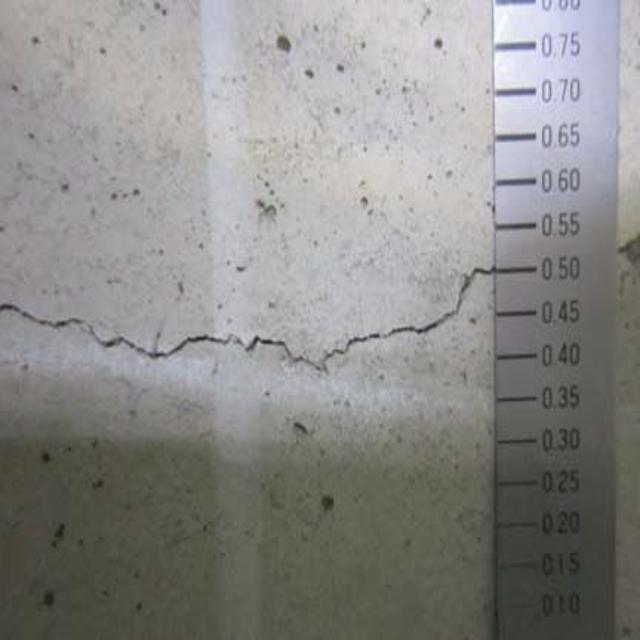crack: (0, 260, 496, 370)
